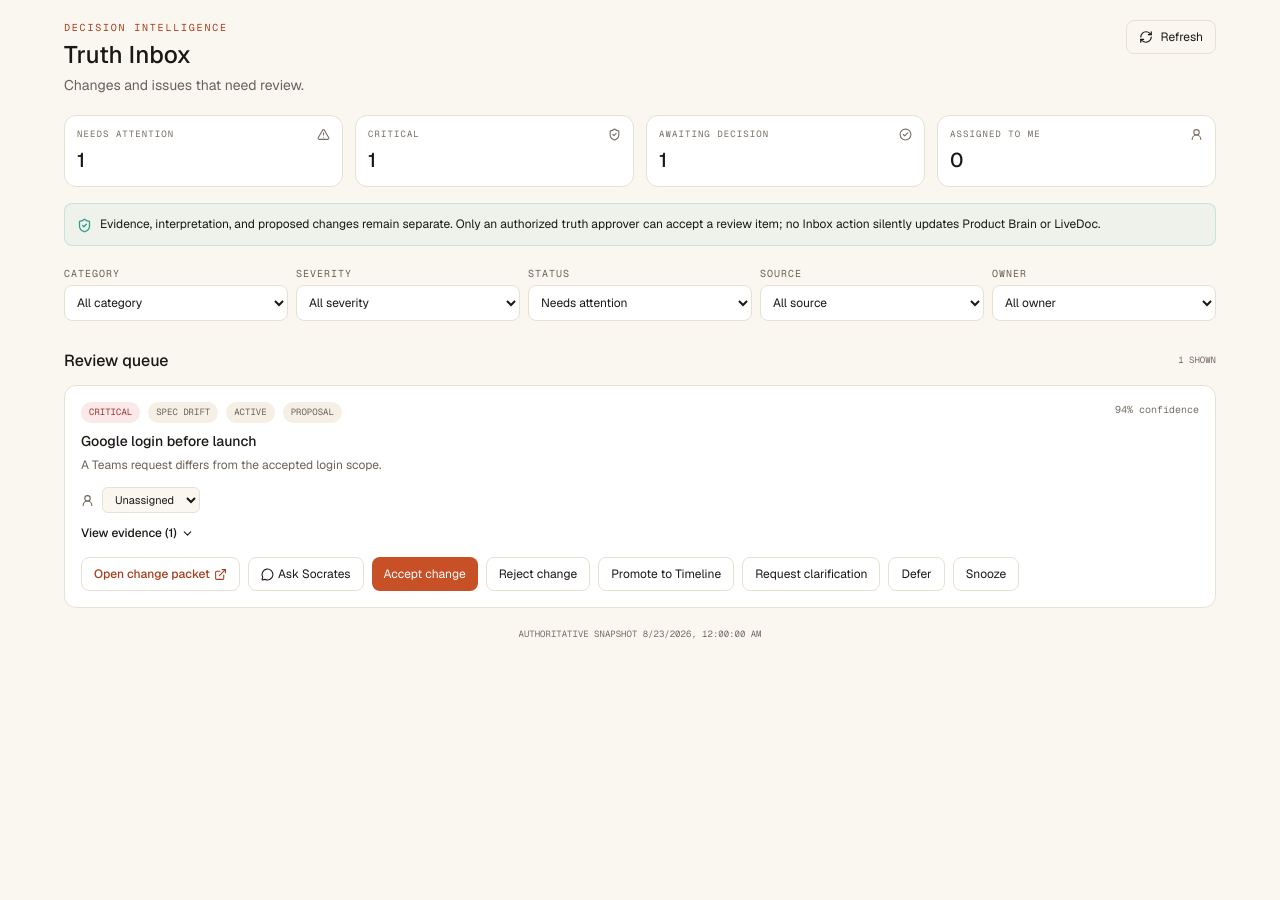
Test case: TruthInboxPage › keeps the item visible and reports a failed mutation honestly
Click the button "Reject change".
click(538, 574)  # box [486,557,590,591]
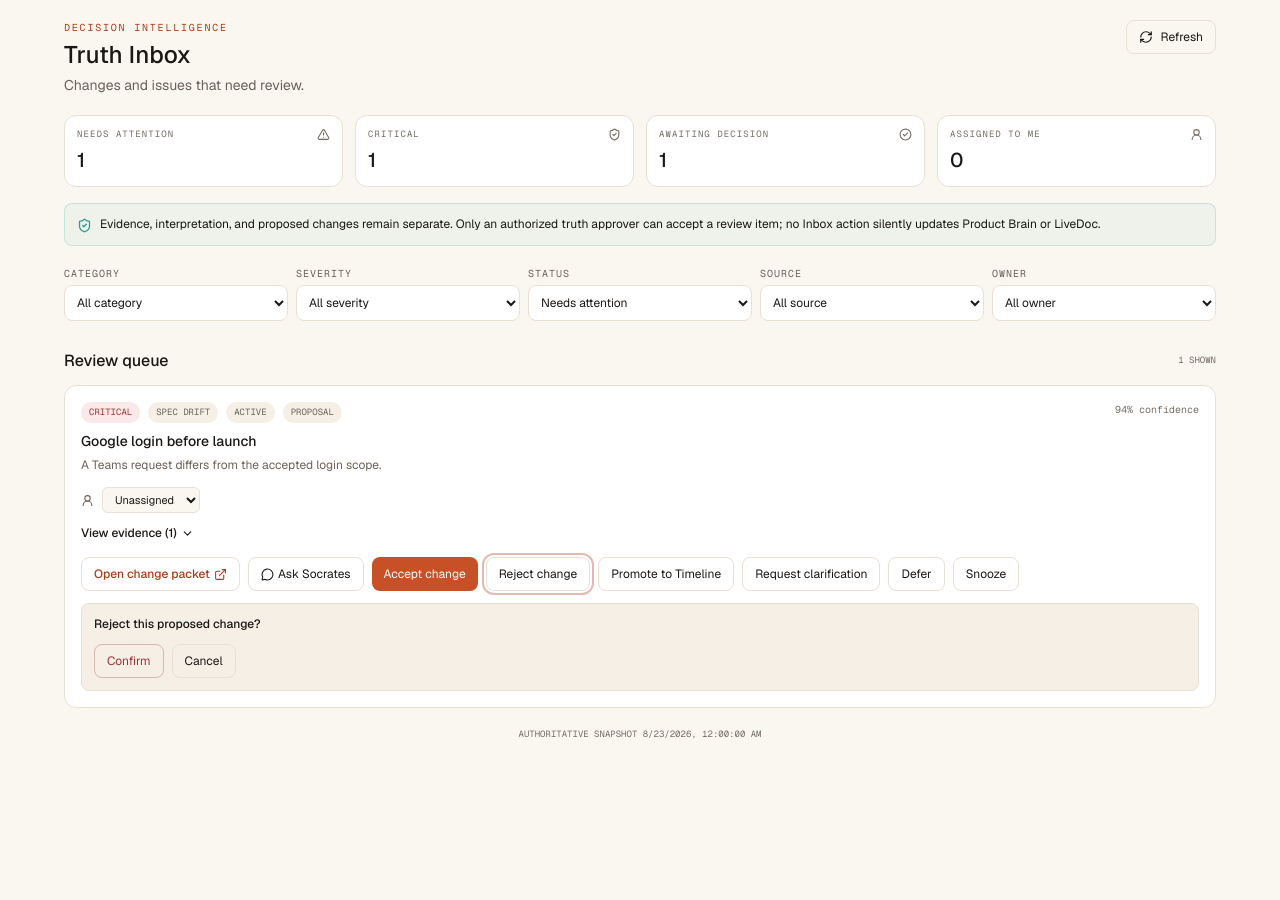
Click the button "Confirm".
click(129, 661)  # box [94,644,164,678]
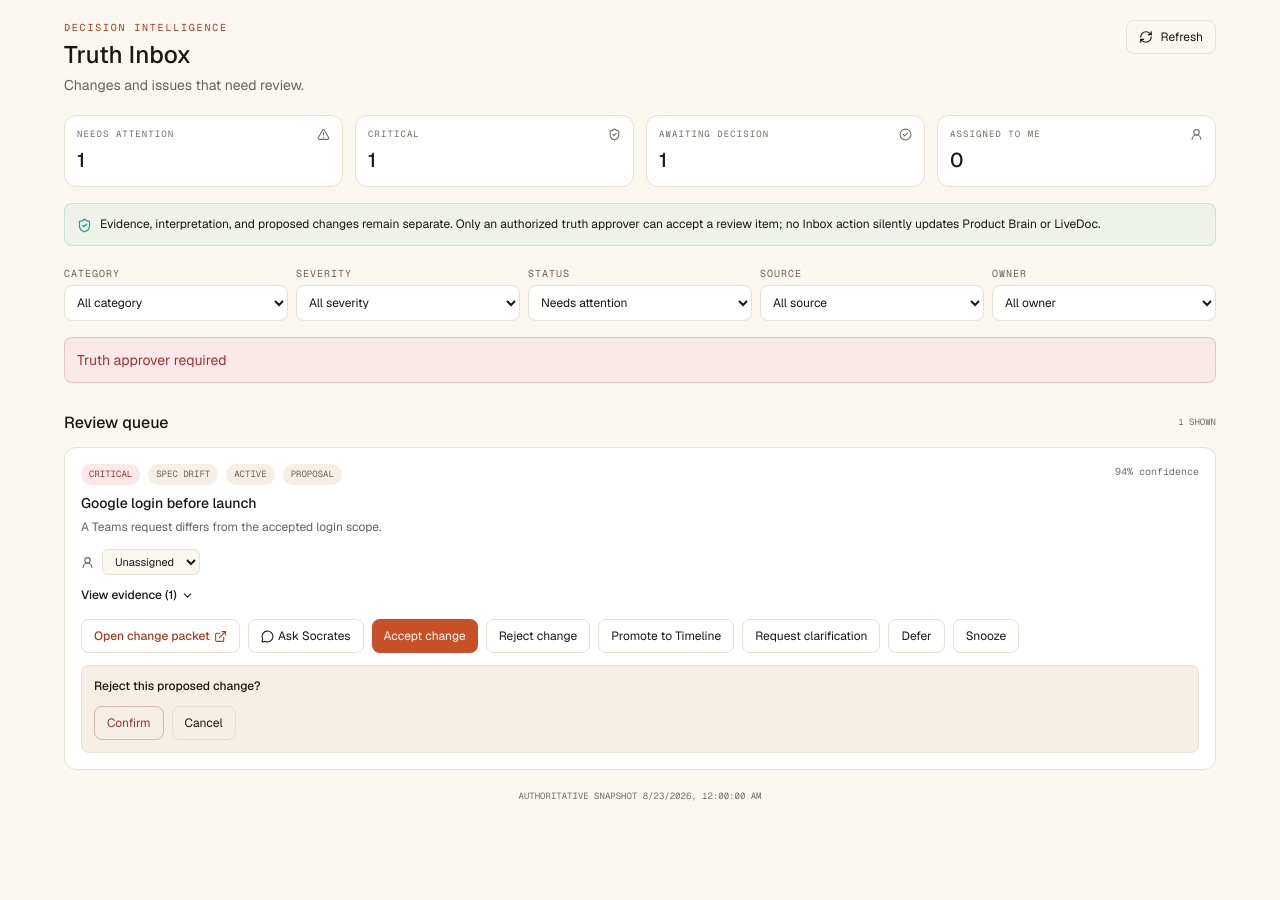
Expected: the heading "Google login before launch" is shown, [81,494,256,512]
Expected: the message reads "Truth approver required", [77,350,227,368]
